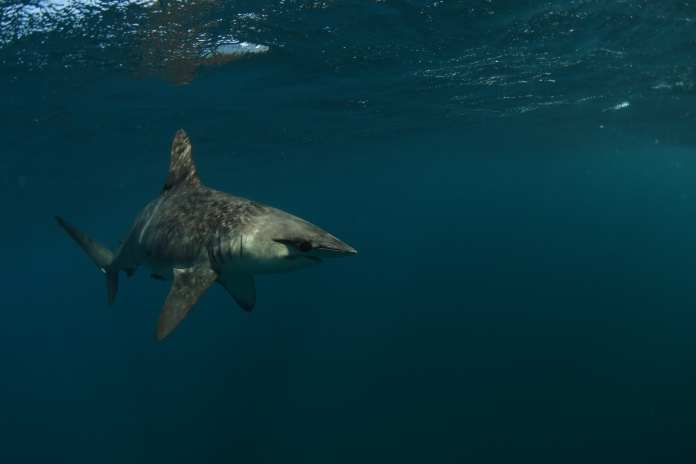Hammer: (44, 123, 390, 348)
